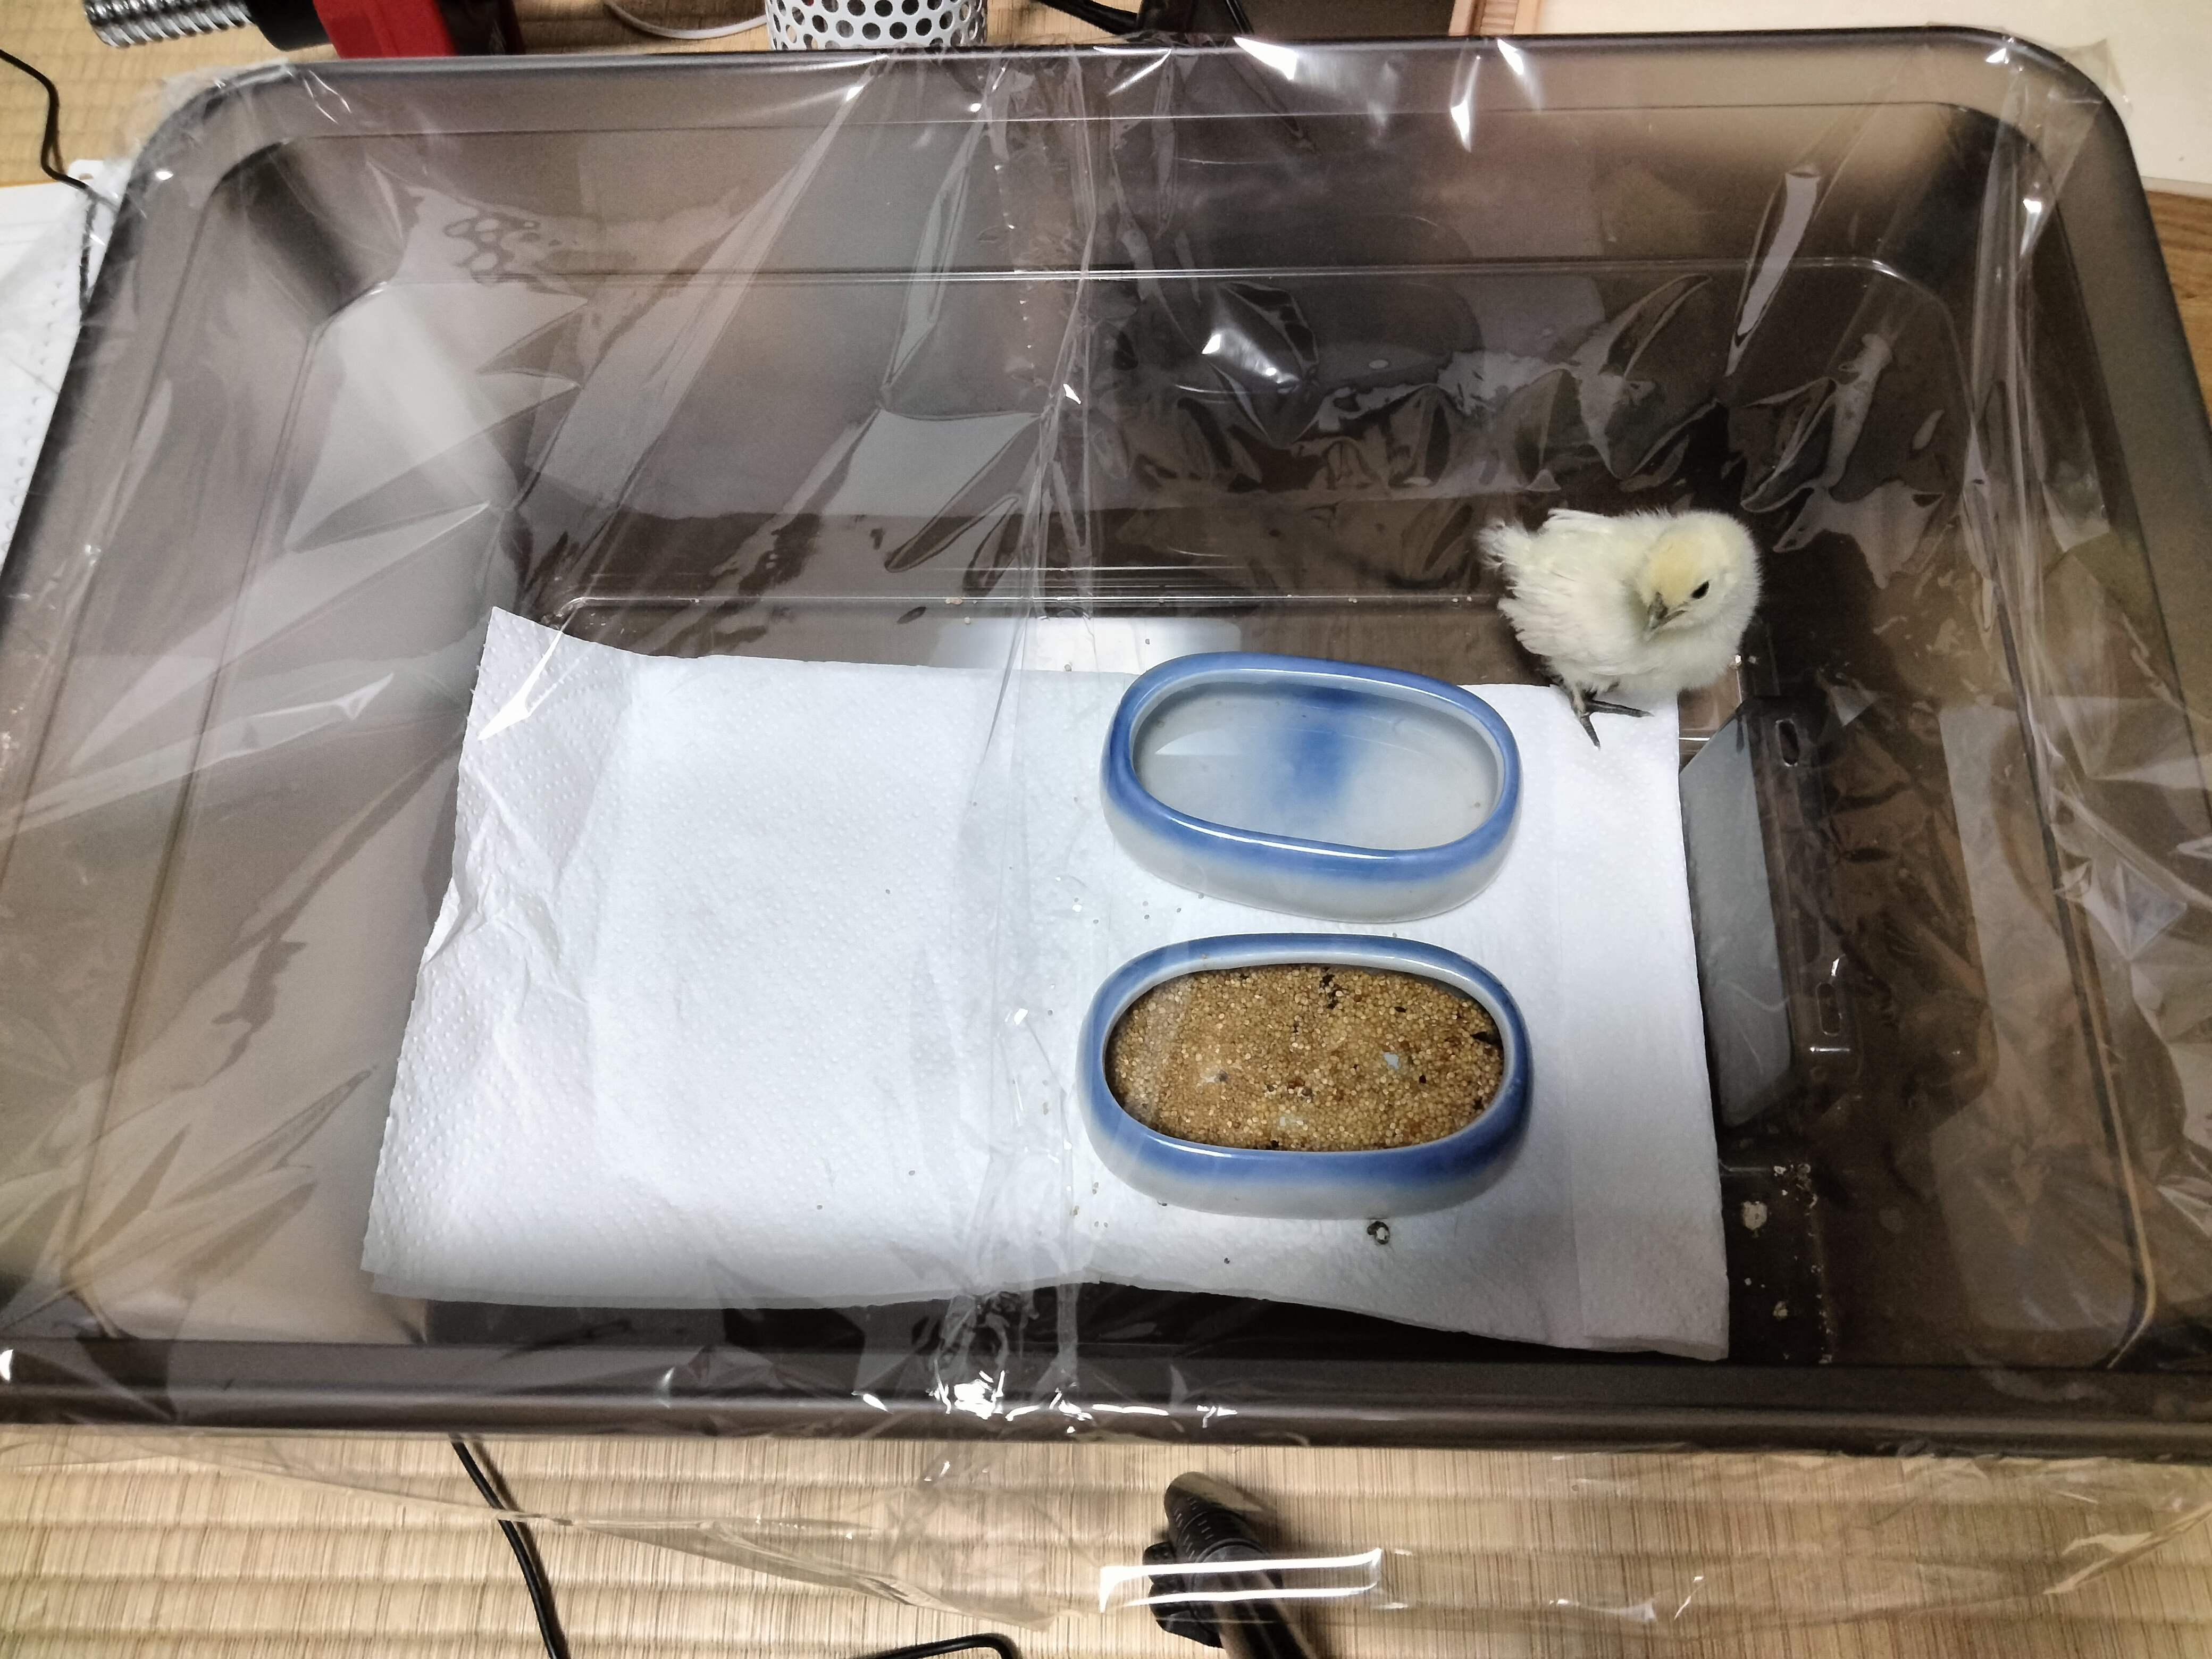shiro: (1447, 474, 1789, 758)
